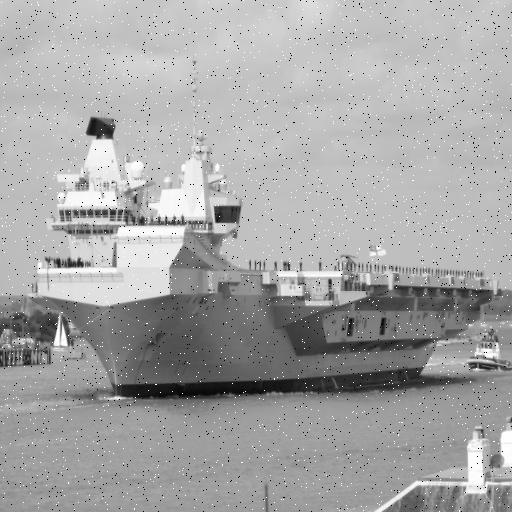Portanaves: (31, 47, 499, 402)
